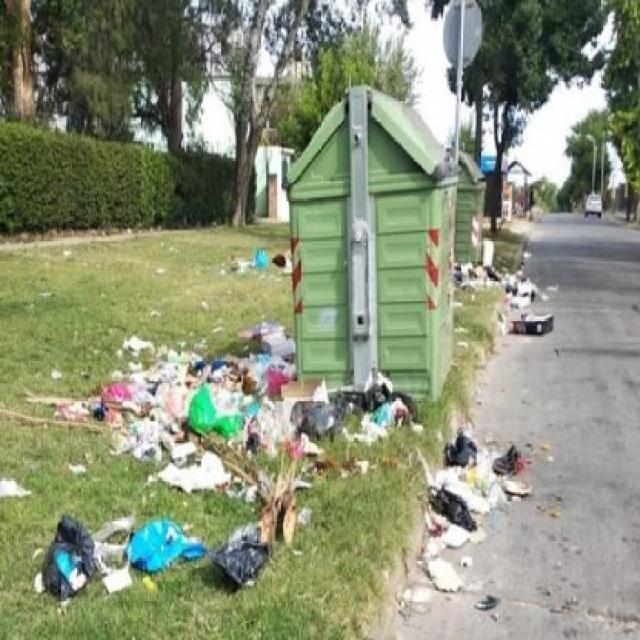garbage: (80, 325, 361, 507), (31, 502, 284, 602), (425, 418, 532, 606), (456, 257, 556, 343), (365, 369, 422, 444), (236, 241, 299, 276)
